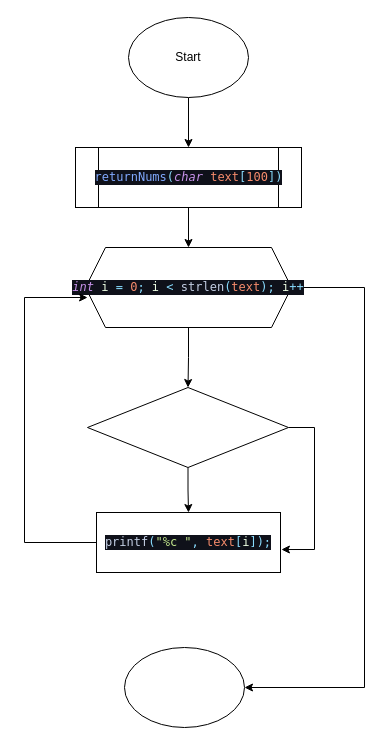
Image size: 390x745. Some labels were removed from this diagram. The centre of each missing label's shape, as x and y in pixels:
"End" goes at point 184,687.
"isdigit ( text [ i ]) != 0" goes at point 187,427.
